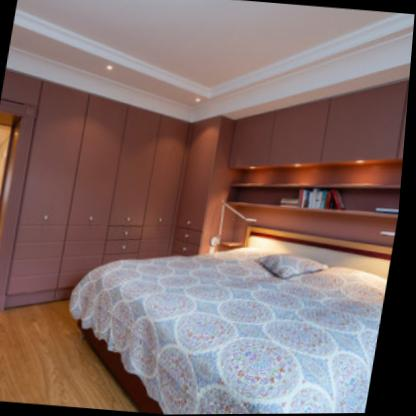Bed: (75, 226, 397, 415)
Wooden floor: (0, 296, 151, 413)
